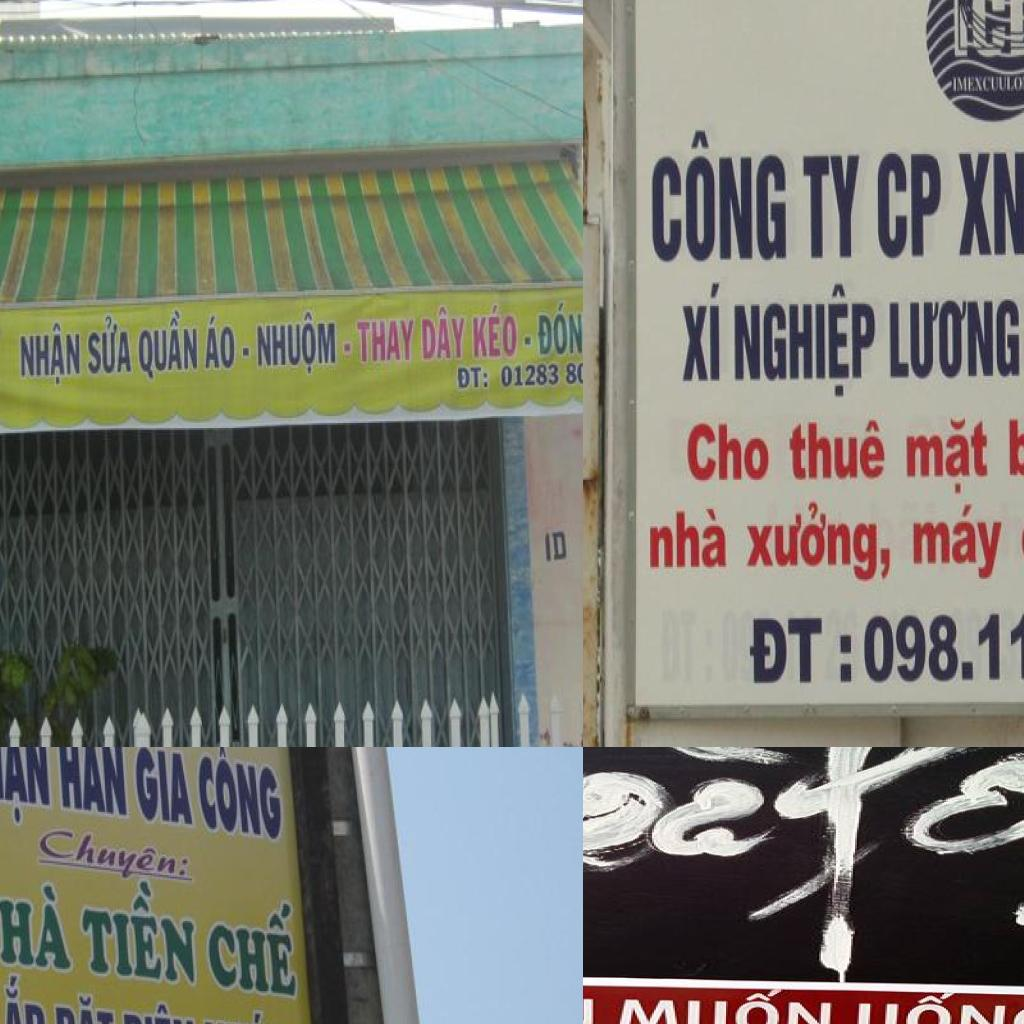text: (583, 747, 1024, 993), (649, 126, 791, 266), (731, 280, 878, 400), (78, 878, 200, 991), (743, 497, 896, 586), (205, 888, 306, 1006), (887, 296, 1022, 382), (35, 827, 202, 882), (0, 864, 80, 975), (195, 747, 286, 844), (610, 986, 835, 1024), (743, 612, 855, 688), (874, 149, 946, 263), (953, 148, 1024, 261), (910, 504, 1010, 584), (904, 415, 993, 497), (785, 415, 888, 485), (800, 152, 864, 264), (685, 417, 773, 488), (645, 504, 732, 574), (55, 747, 133, 825), (853, 989, 1024, 1024), (134, 747, 202, 833), (256, 310, 343, 377), (132, 307, 200, 382), (18, 316, 83, 387), (680, 279, 723, 386), (0, 747, 57, 825), (952, 0, 1024, 60), (352, 316, 418, 366), (533, 296, 583, 359), (417, 304, 467, 366), (86, 314, 134, 378), (47, 984, 121, 1024), (468, 303, 518, 360), (0, 970, 51, 1024), (201, 312, 238, 372), (200, 1004, 294, 1024), (500, 361, 560, 389), (121, 1004, 200, 1024), (952, 73, 1024, 94), (541, 530, 572, 566), (456, 363, 492, 392), (563, 361, 583, 387), (520, 334, 534, 351), (240, 344, 252, 360), (344, 340, 354, 356)
